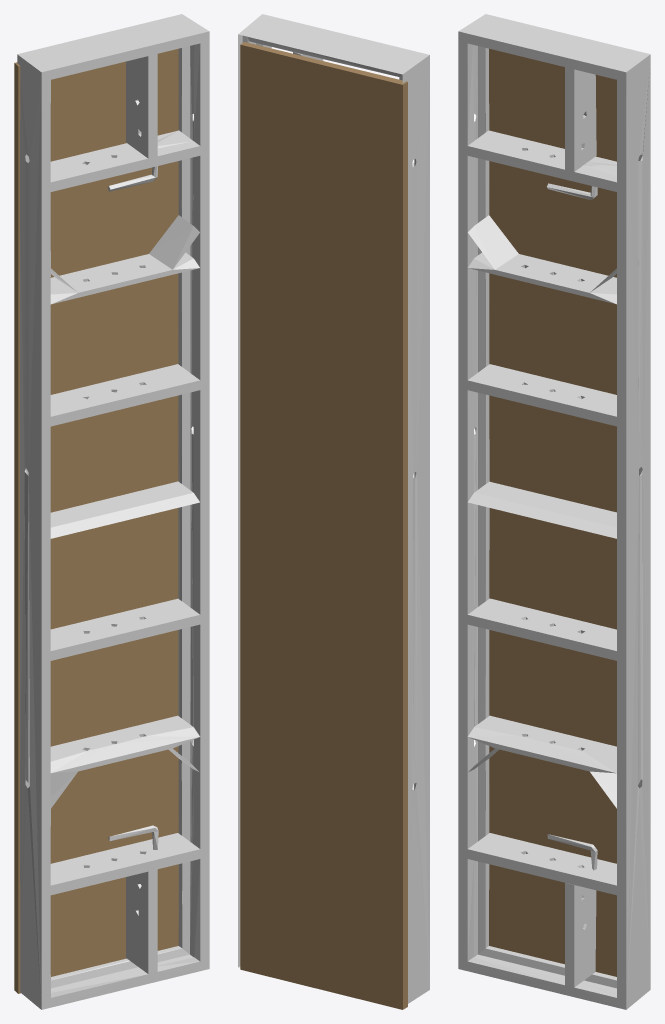
3 renders of one model, left to right at view 1: azimuth 30°, elevation 25°; view 2: azimuth 150°, elevation 25°; view 3: azimuth 330°, elevation 25°, orthographic.
Visible parts, largest first — view 1: 24454243; view 2: 24454243; view 3: 24454243.
Boxes of the visible parts, x1,y1,x2,y2 form: 24454243: (14,14,209,1009); 24454243: (238,14,429,1009); 24454243: (458,14,650,1009).
Bounding box in the file's own units: 0.4518 × 2.4 × 0.1259.
